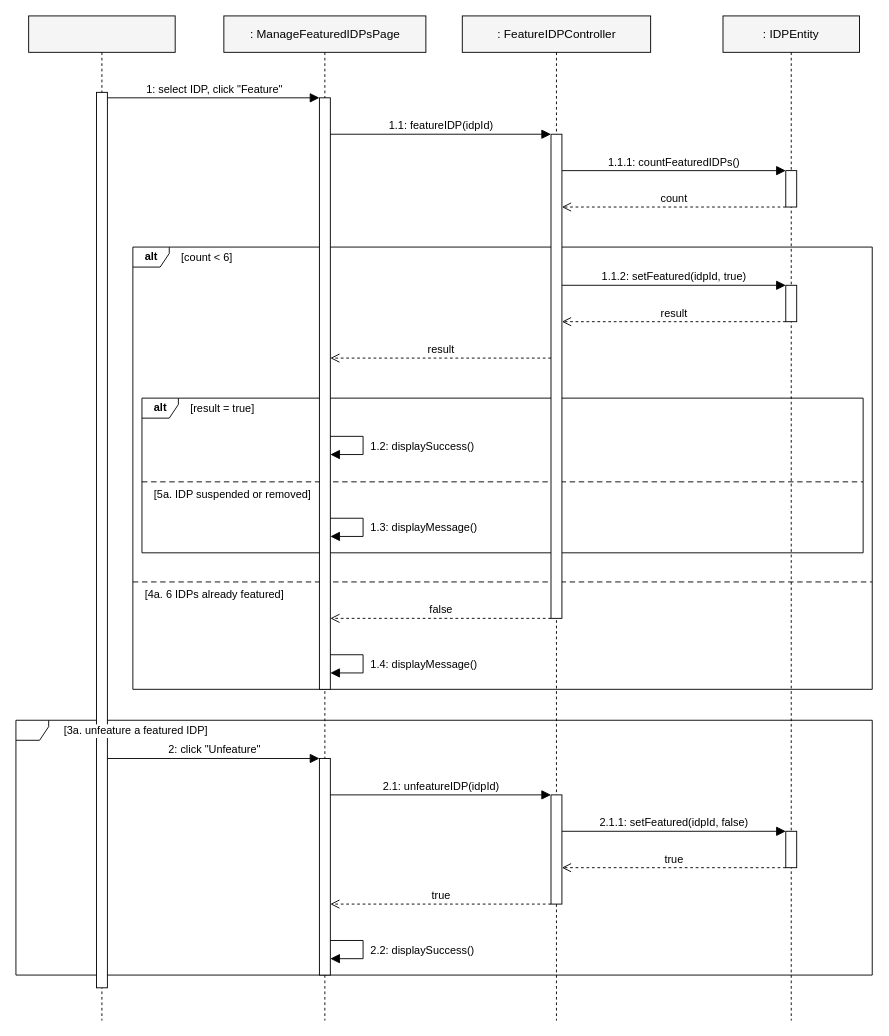
Image size: 889x1036. Some labels were removed from this diagram. Each missing label, with the box of its shape:
opt: (15, 719, 872, 975)
Platform Manager: (28, 15, 175, 1021)
